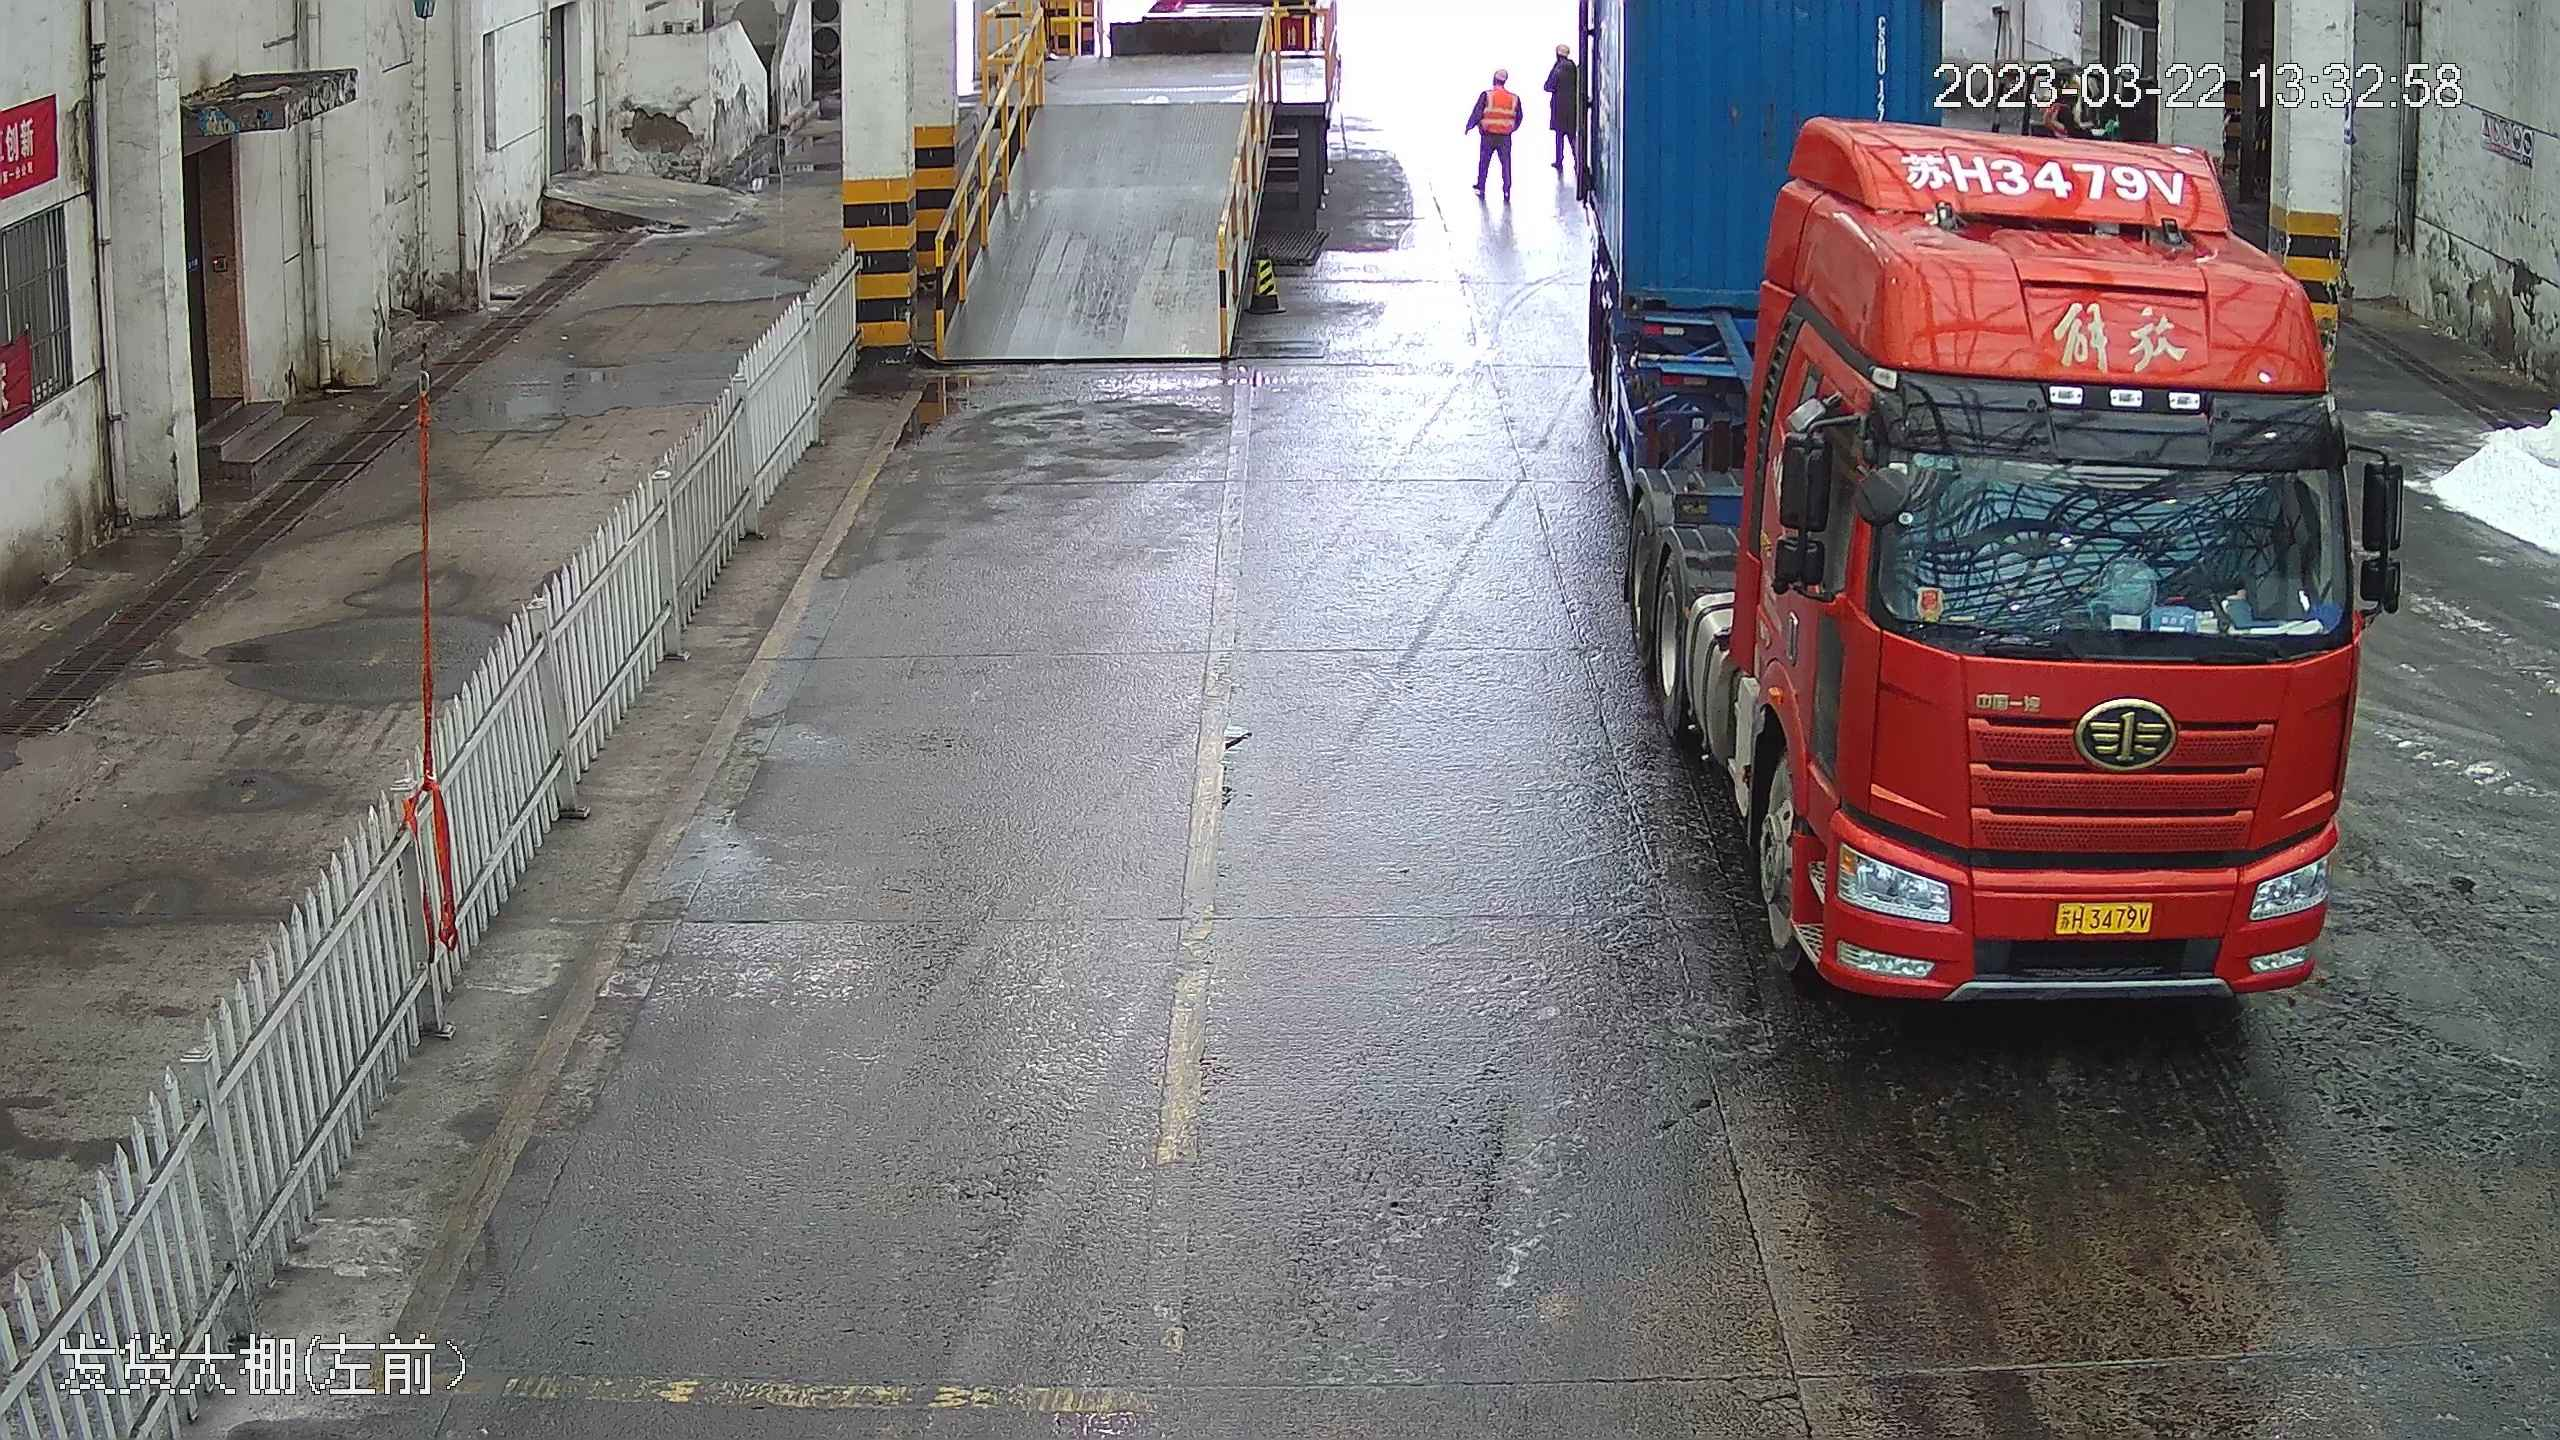head: (1477, 65, 1517, 110), (1546, 31, 1582, 80)
helmet: (1554, 42, 1572, 59), (1492, 65, 1509, 83)
people: (1467, 60, 1522, 218), (1545, 27, 1590, 213)
truck: (1556, 28, 2380, 1004)
